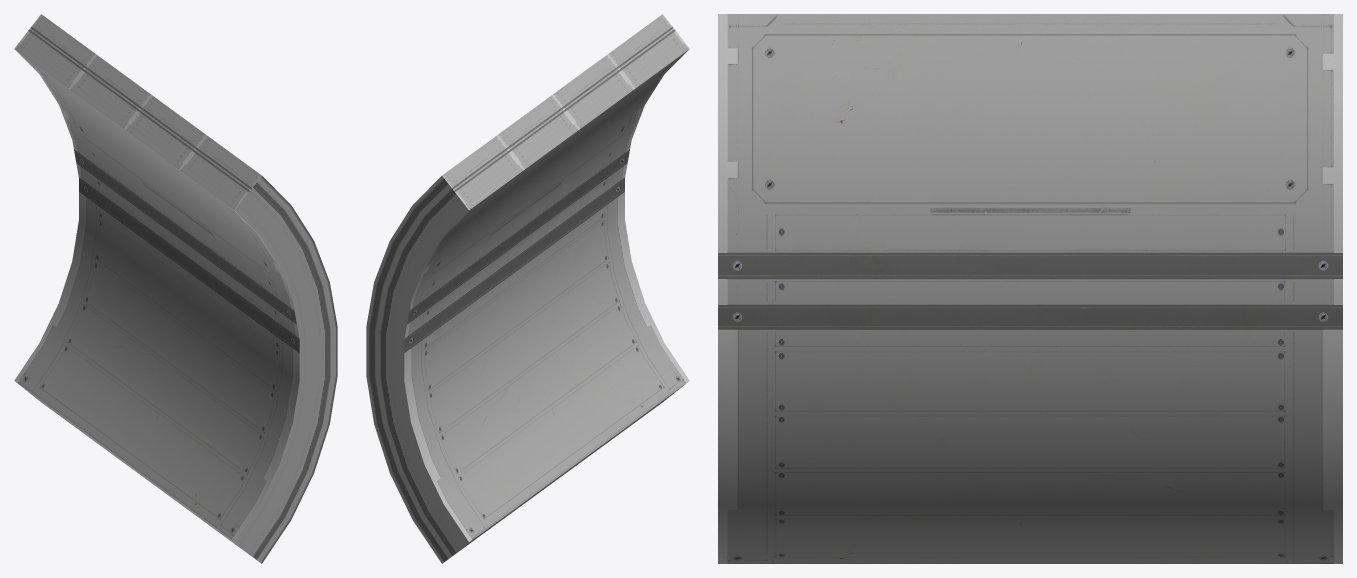
File: SM_Walls_CURVED06.fbx
The picture shows the model from 3 angles, left to right: view 1: azimuth 30°, elevation 25°; view 2: azimuth 150°, elevation 25°; view 3: azimuth 270°, elevation 25°; orthographic projection. The views are drawn at different scales.
Parts seen in each view (by area): view 1: SM_Walls_CURVED06_LOD0; view 2: SM_Walls_CURVED06_LOD0; view 3: SM_Walls_CURVED06_LOD0.
Boxes of the visible parts, x1,y1,x2,y2 form: SM_Walls_CURVED06_LOD0: (14, 14, 337, 563); SM_Walls_CURVED06_LOD0: (366, 14, 689, 563); SM_Walls_CURVED06_LOD0: (718, 14, 1342, 563).
Bounding box in the file's own units: 108 × 400 × 388.
1 material, 1 textured.
